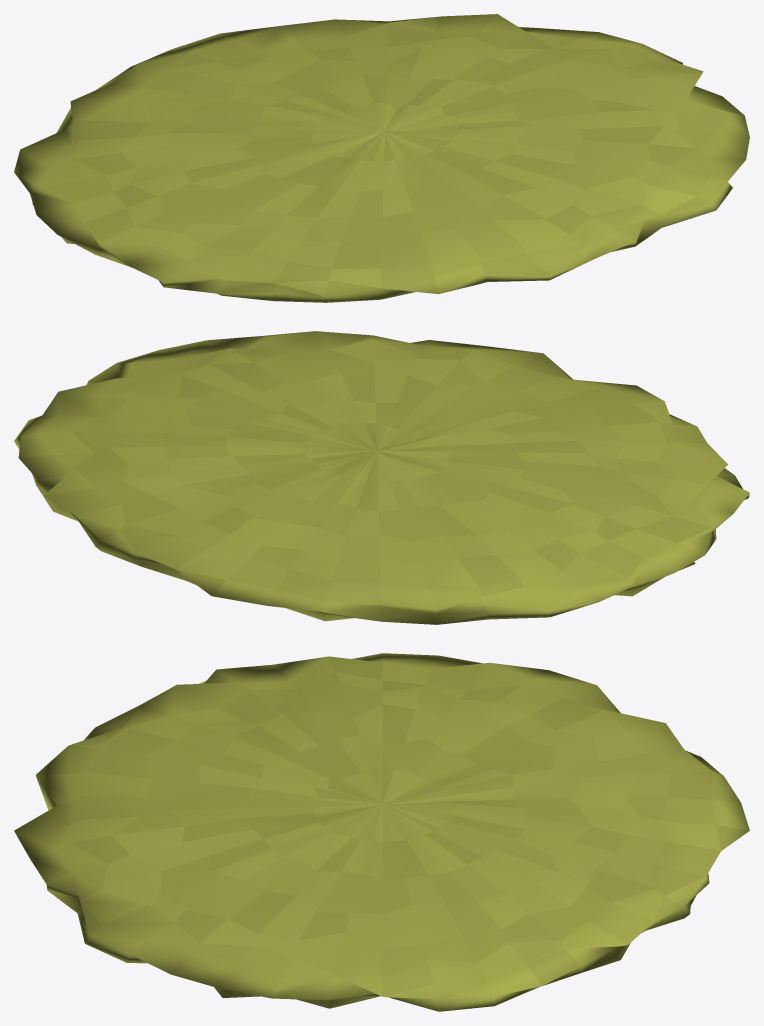
Rendered from OliveOil.glb.
3 renders of one model, top to bottom at view 1: azimuth 30°, elevation 25°; view 2: azimuth 150°, elevation 25°; view 3: azimuth 270°, elevation 25°, orthographic. The views are drawn at different scales.
Visible parts, largest first — view 1: OliveOil; view 2: OliveOil; view 3: OliveOil.
Boxes of the visible parts, box(x1,y1,x2,y2) form: OliveOil: box(14, 14, 749, 302); OliveOil: box(14, 331, 749, 624); OliveOil: box(14, 653, 749, 1011).
Size of what is drawn, in the model's own units: 0.0723 by 0.00579 by 0.0638.
